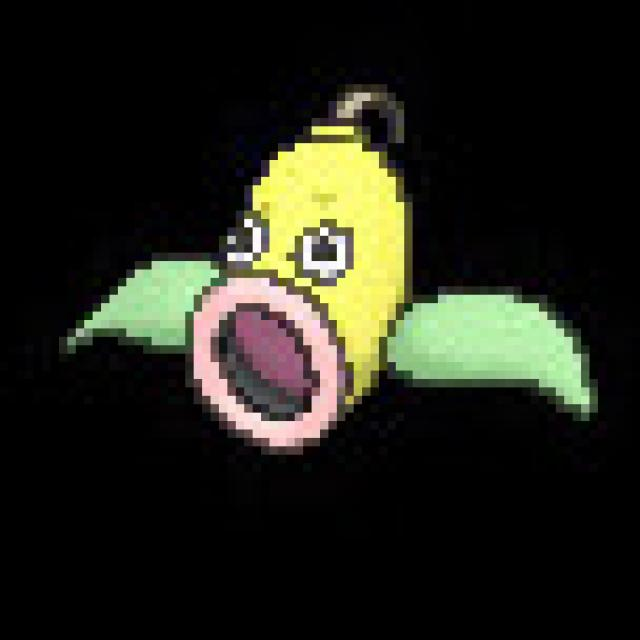Weepinbell: (172, 75, 428, 443)
